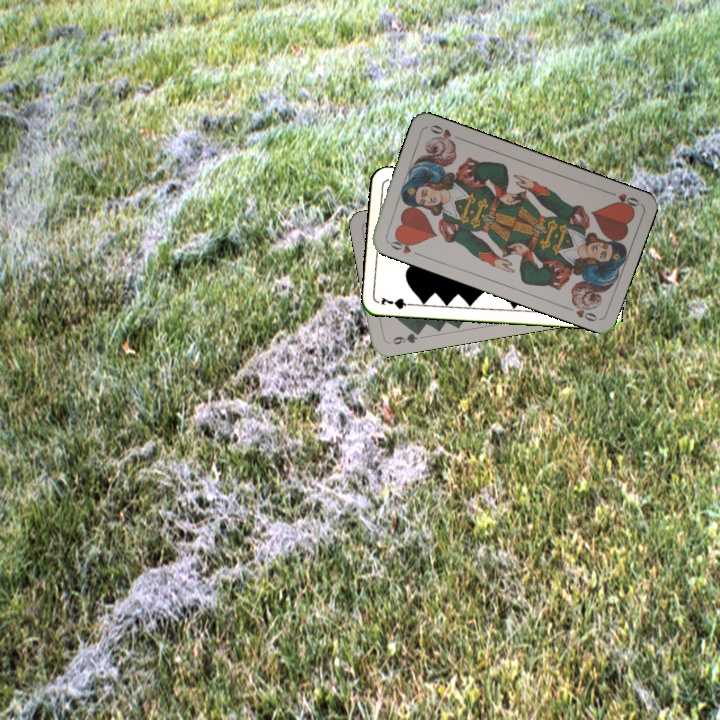G7: (377, 293, 417, 311)
G9: (384, 327, 423, 347)
HO: (383, 233, 423, 258), (603, 187, 642, 212)
